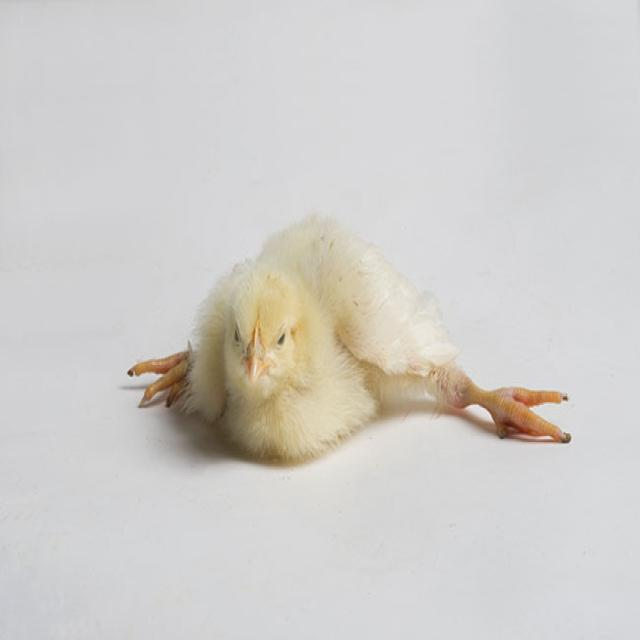AbNormal: (128, 210, 572, 467)
